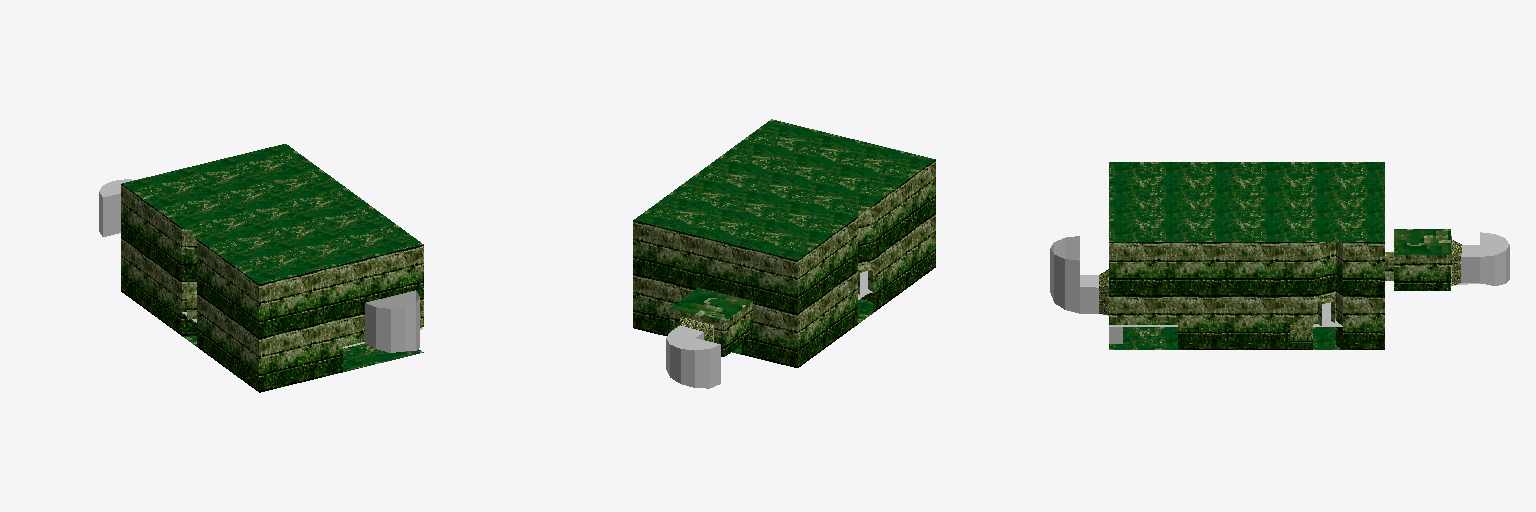
3 renders of one model, left to right at view 1: azimuth 30°, elevation 25°; view 2: azimuth 150°, elevation 25°; view 3: azimuth 270°, elevation 25°, orthographic.
Visible parts, largest first — view 1: mesh.004; view 2: mesh.004; view 3: mesh.004.
Boxes of the visible parts, x1,y1,x2,y2 form: mesh.004: [99, 144, 423, 392]; mesh.004: [633, 119, 935, 388]; mesh.004: [1050, 162, 1509, 349].
Bounding box in the file's own units: 804 × 478 × 1840.
10 materials, 5 textured.